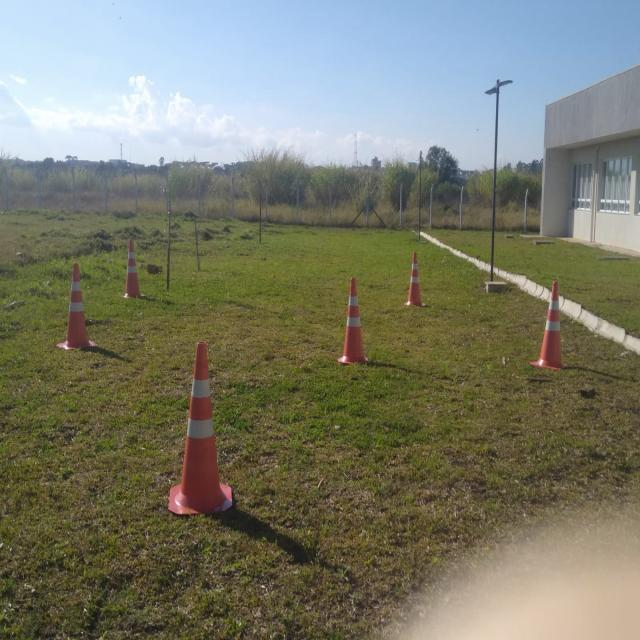cone: (166, 339, 234, 516), (528, 278, 571, 372), (55, 262, 99, 351), (336, 276, 371, 365), (120, 237, 148, 299), (403, 250, 428, 307)
